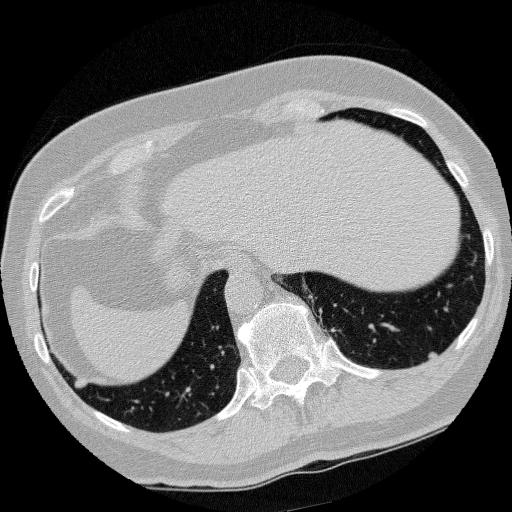nodule: (426, 346, 443, 363)
